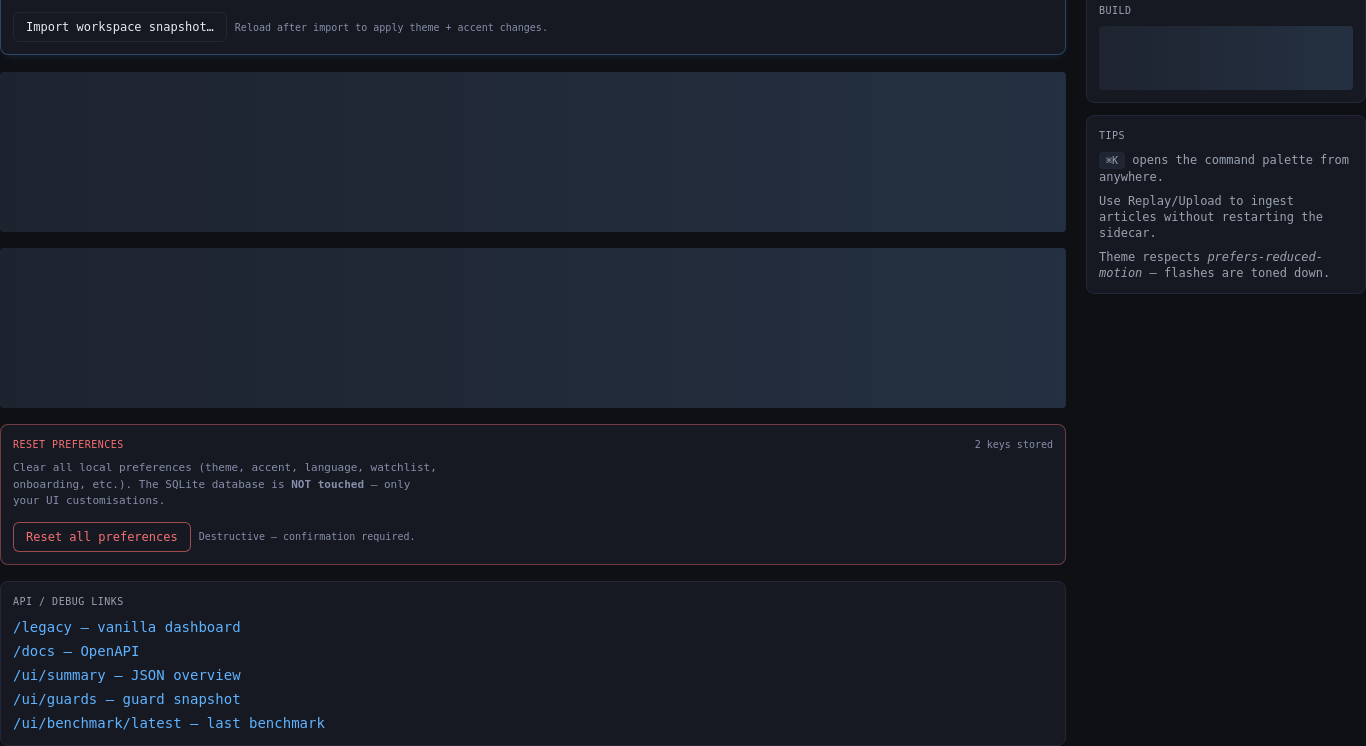
ResetPreferencesCard — UI flow › opens the modal on button click without touching storage
This screenshot has width=1366, height=746.
(page scrolled)
Click the button with test id "reset-preferences-open-btn". click: (102, 536)
box: [13,522,191,552]
(page scrolled)
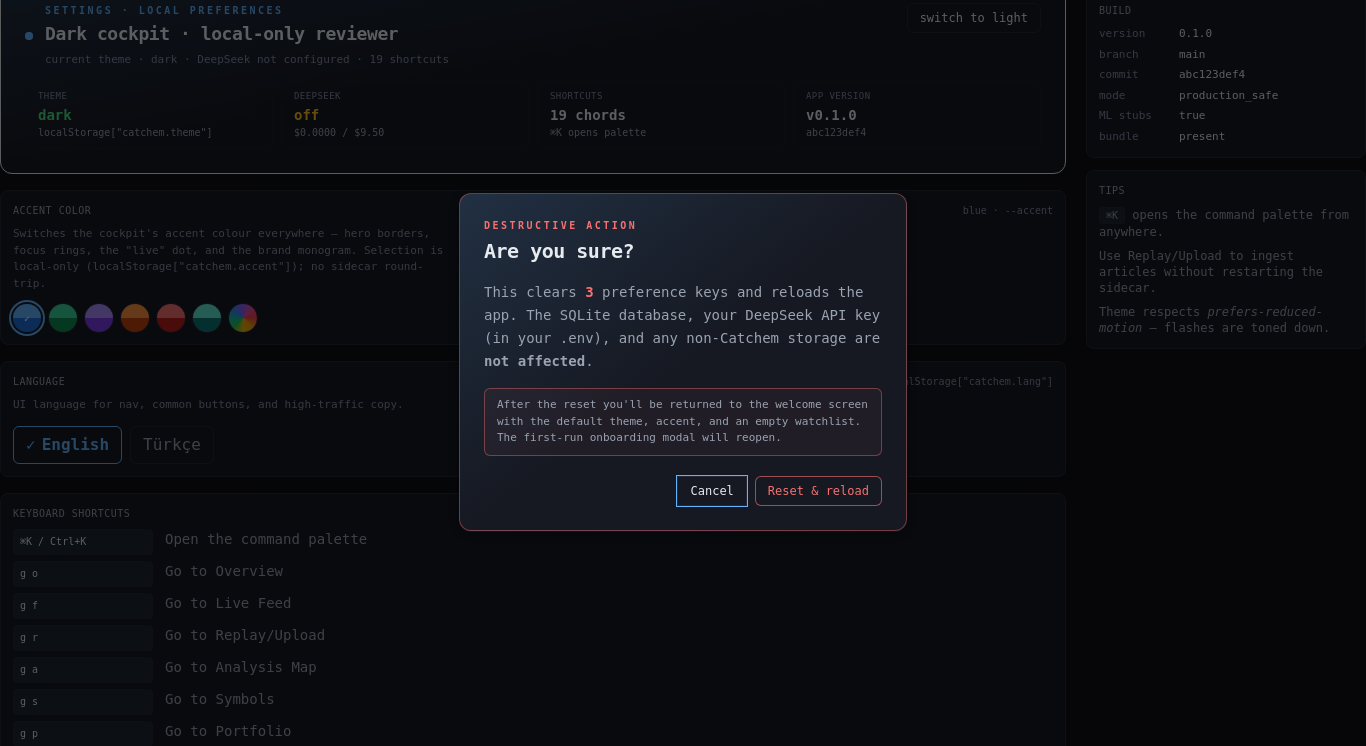
expect the text "dark" is shown: met, box [38,107,72,123]
expect the dialog with test id "reset-preferences-modal-card" is shown: met, box [459,193,907,531]
